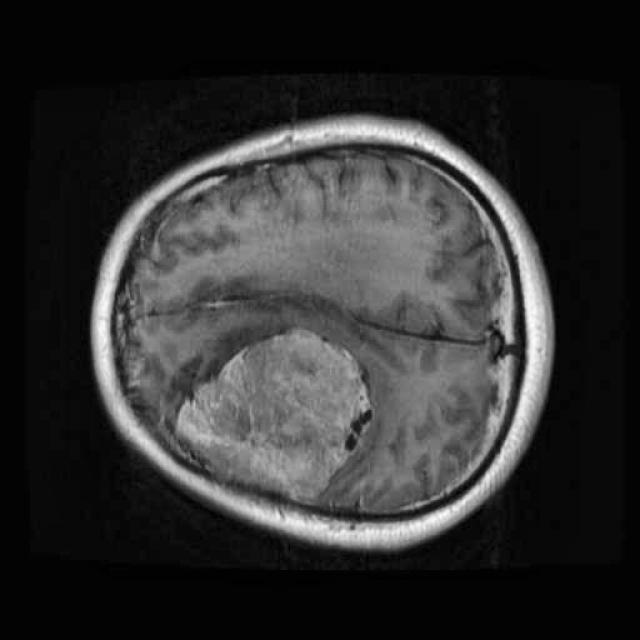Tumor: (164, 311, 385, 525)
